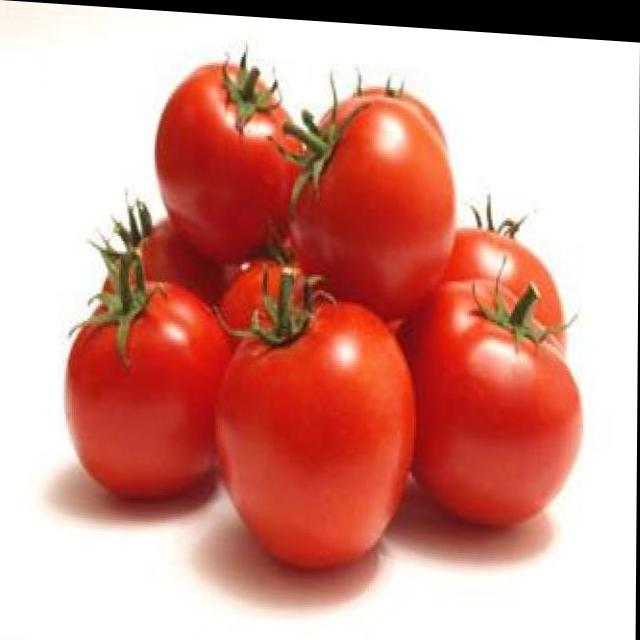kirmizi: (79, 48, 616, 566)
